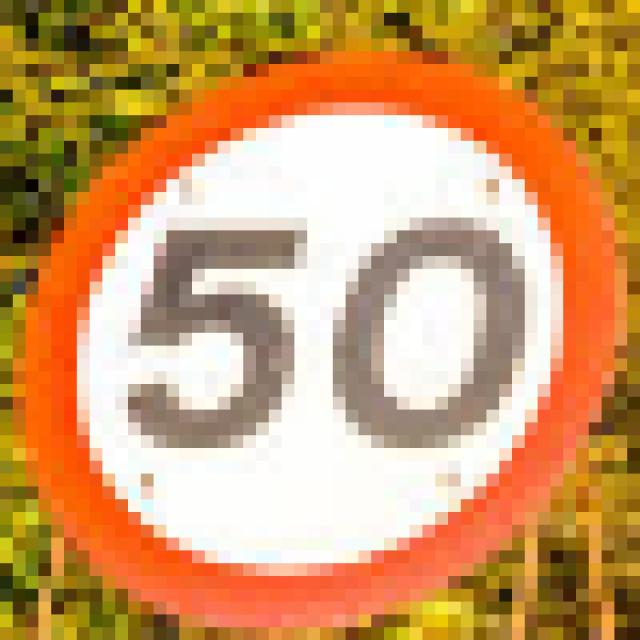Limite-50: (15, 46, 622, 634)
